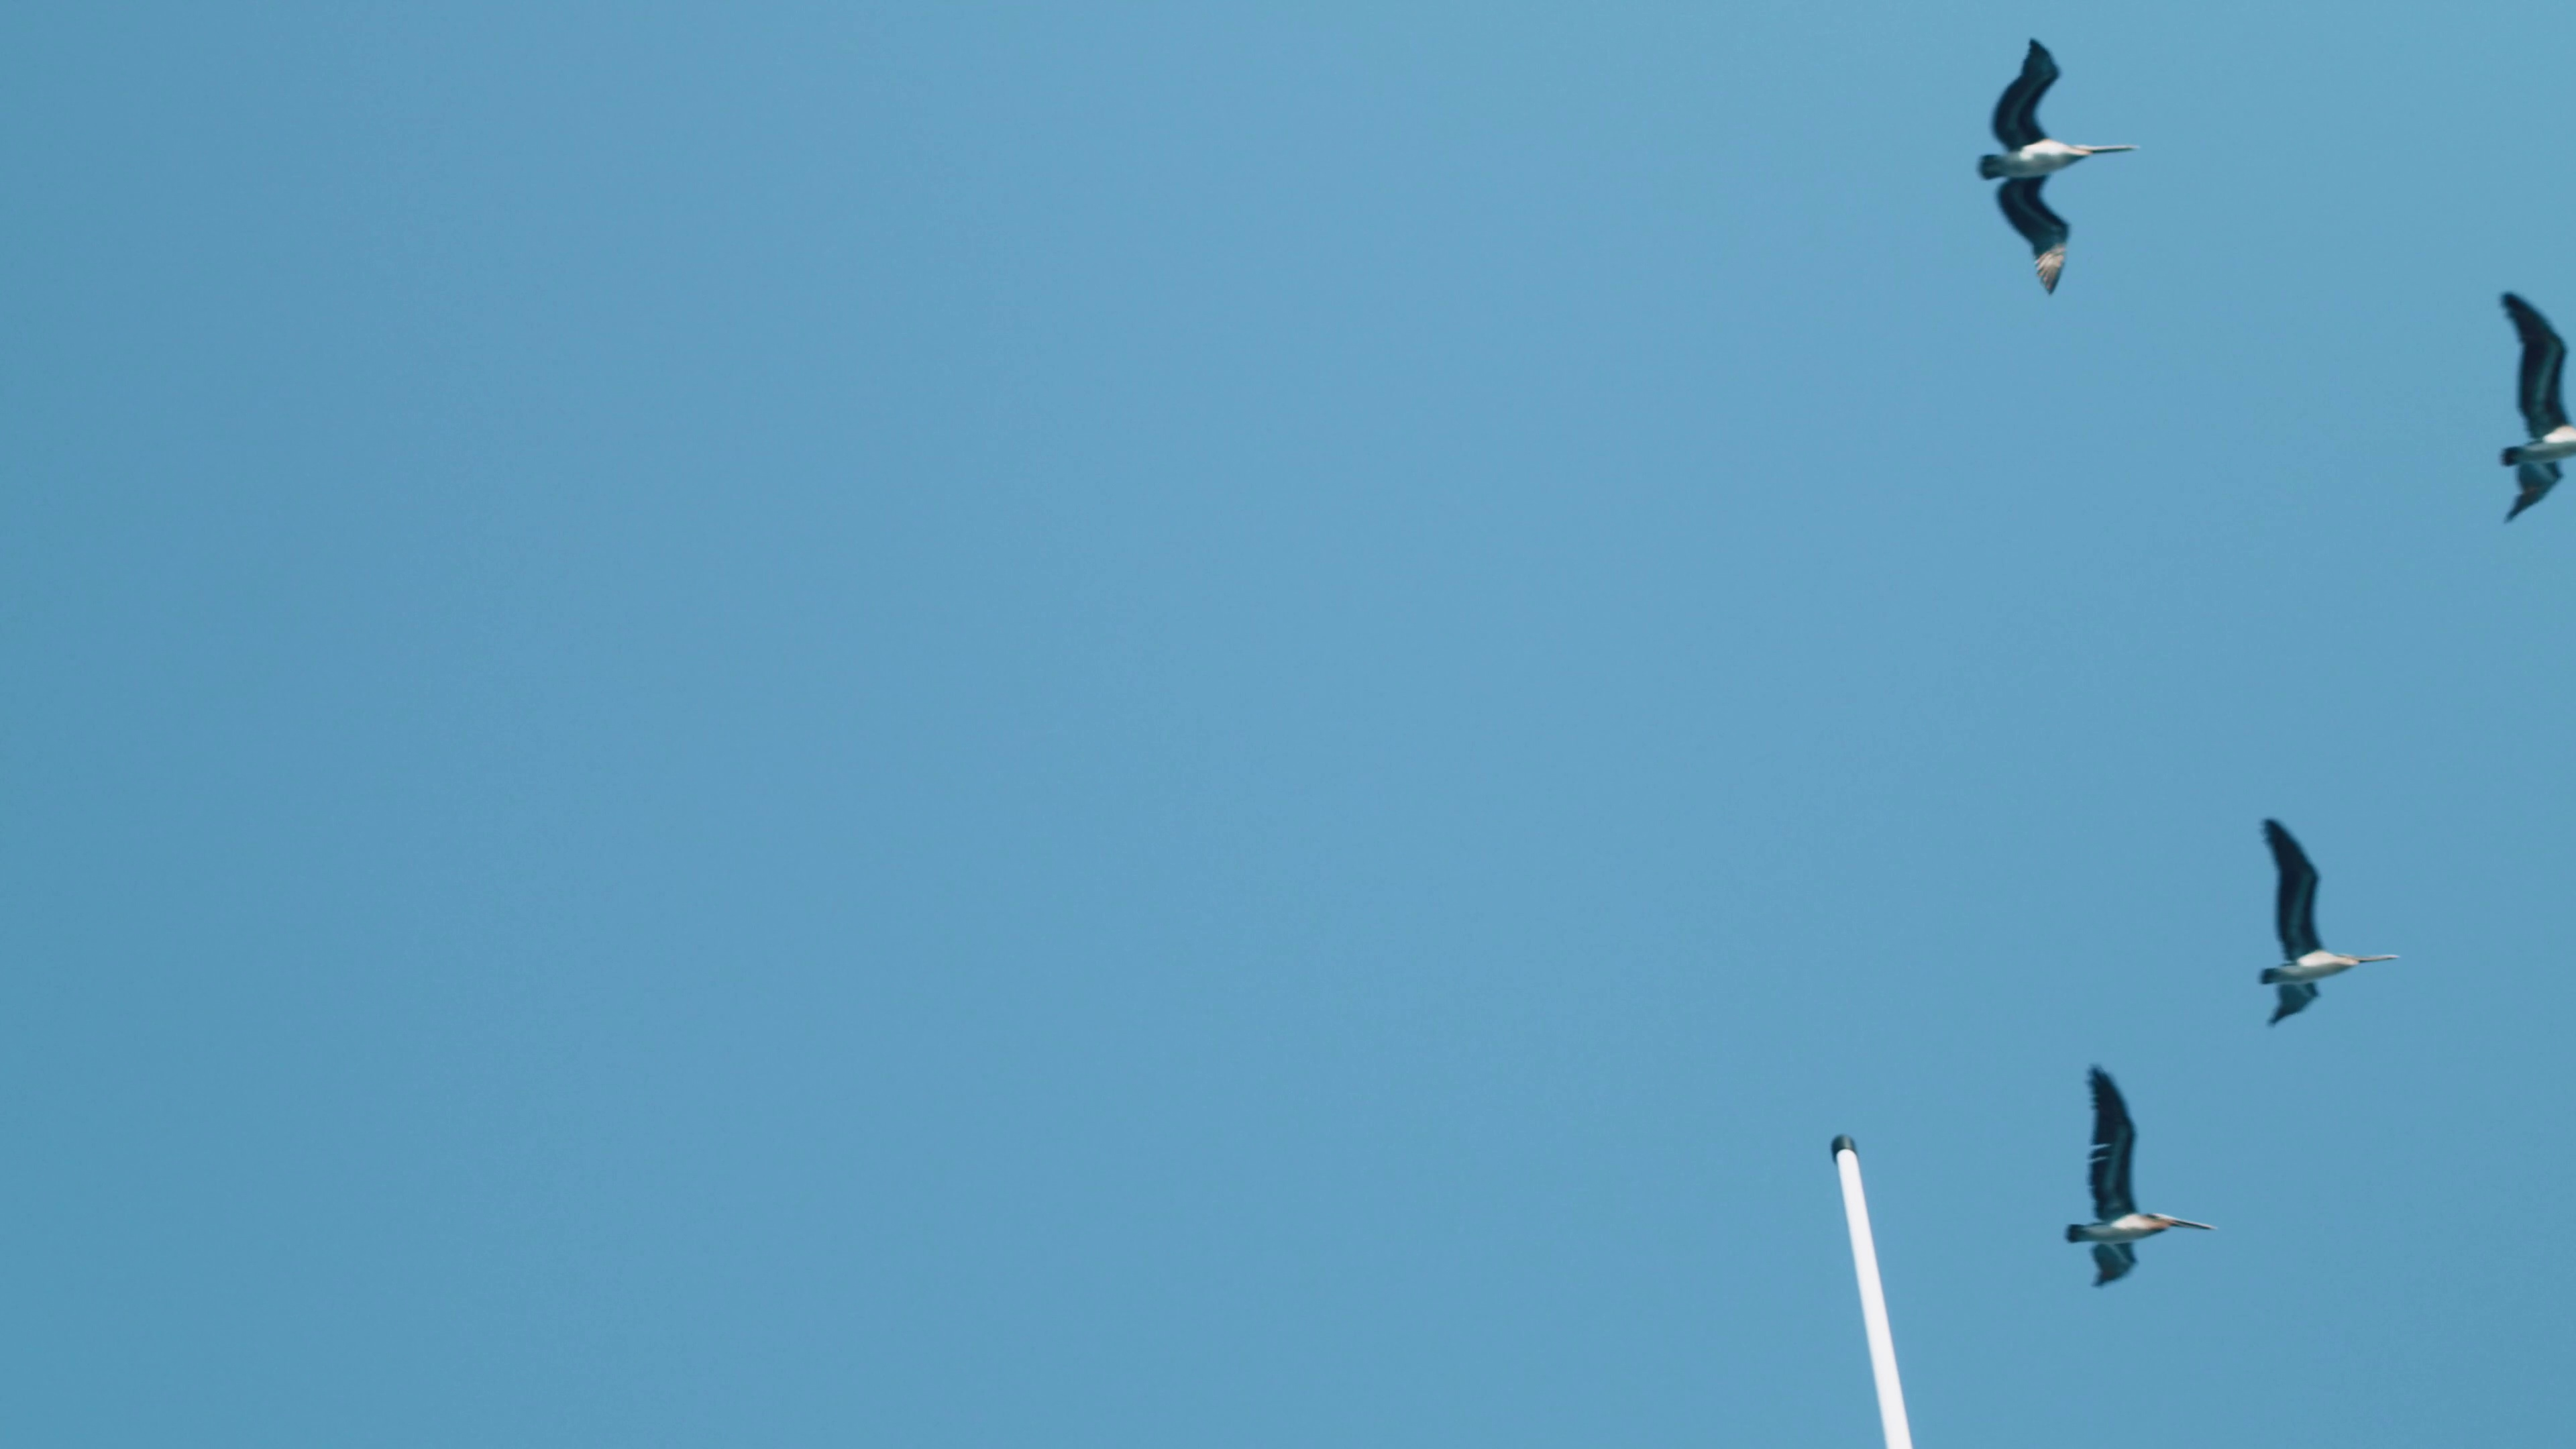bird: (1971, 34, 2137, 292), (2070, 1062, 2215, 1288), (2250, 816, 2397, 1030), (2502, 292, 2576, 520)
